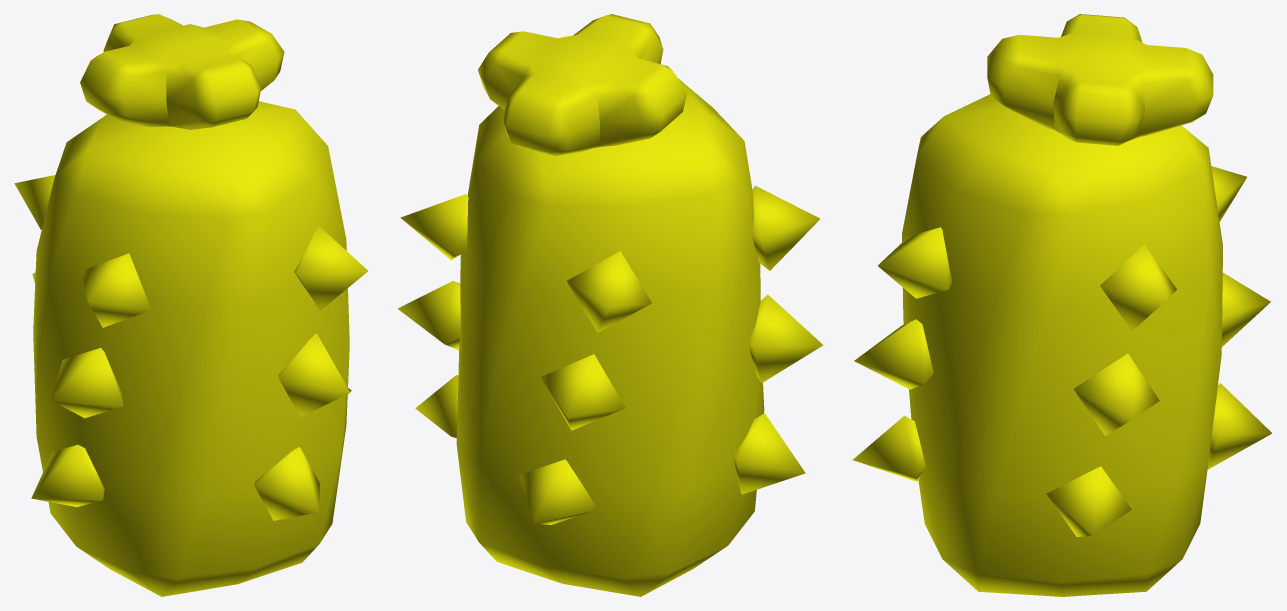
File: cactus_1.glb
3 views of the same model, side by side, from view 1: azimuth 30°, elevation 25°; view 2: azimuth 150°, elevation 25°; view 3: azimuth 270°, elevation 25° (orthographic). The views are drawn at different scales.
Parts seen in each view (by area): view 1: cactus_1_LOD0; view 2: cactus_1_LOD0; view 3: cactus_1_LOD0.
Boxes of the visible parts, left/top/right/bottom form: cactus_1_LOD0: left=14, top=14, right=367, bottom=596; cactus_1_LOD0: left=398, top=14, right=823, bottom=596; cactus_1_LOD0: left=853, top=14, right=1272, bottom=596.
Size of what is drawn, in the model's own units: 1.17 by 1.62 by 1.17.
Materials: 1 (1 with a texture image).
